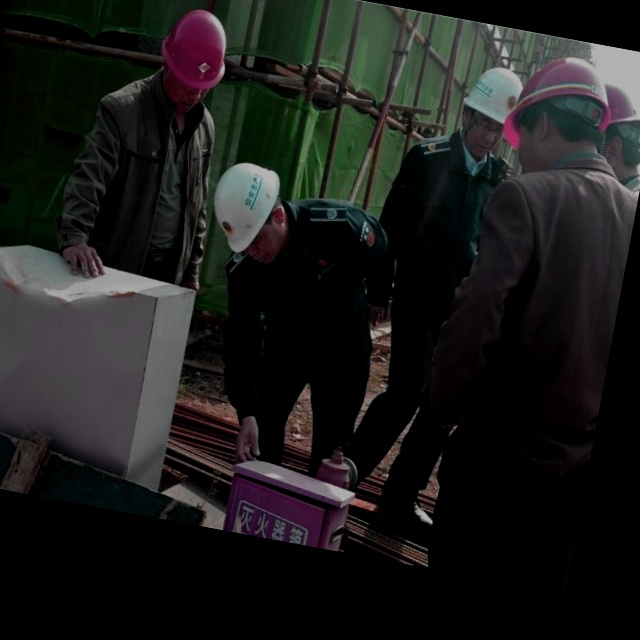Con_Casco: (207, 156, 296, 265), (152, 5, 239, 110)
